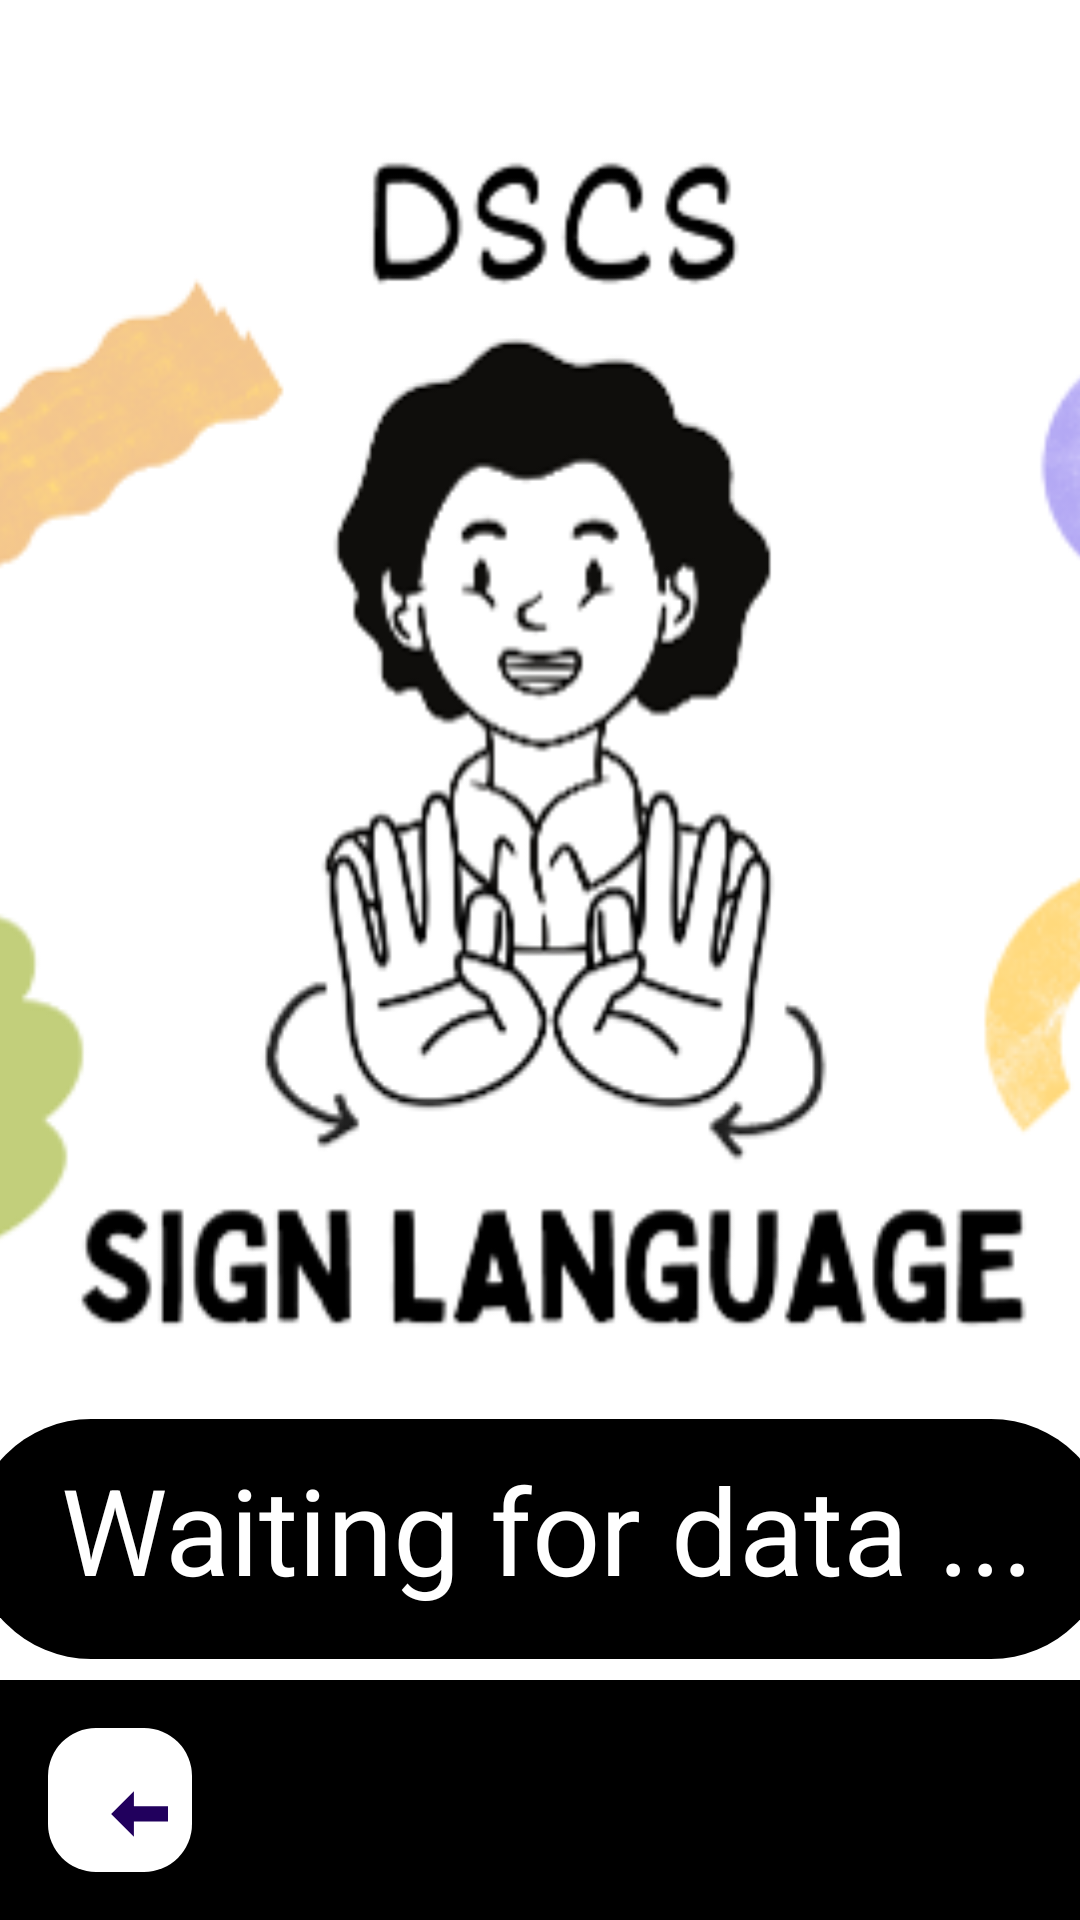

Where to tap for icons on this 1080w x 1920h app screen, as (x,y):
arrow back: (120,1800)
